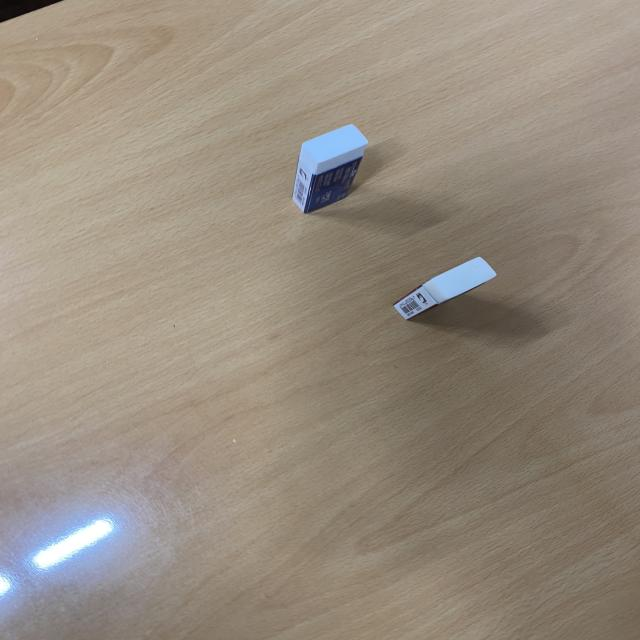blue: (286, 122, 376, 216)
red: (393, 252, 502, 324)
